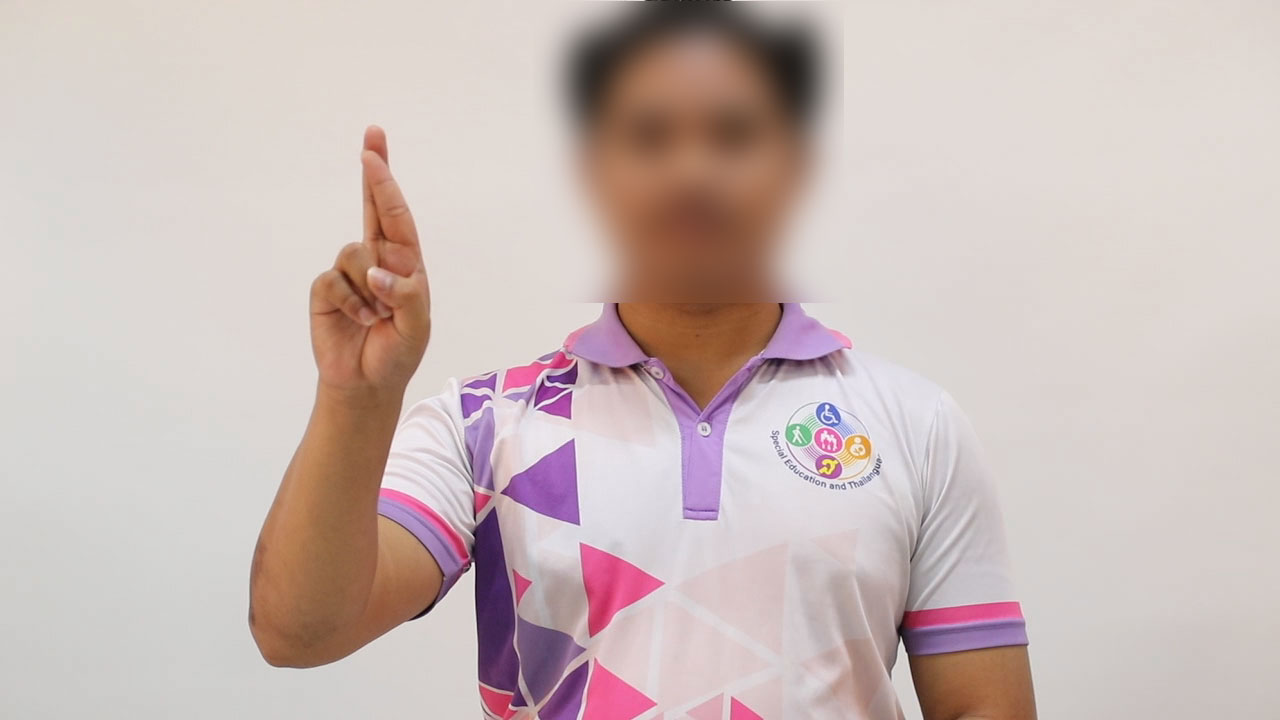rao: (296, 116, 440, 408)
